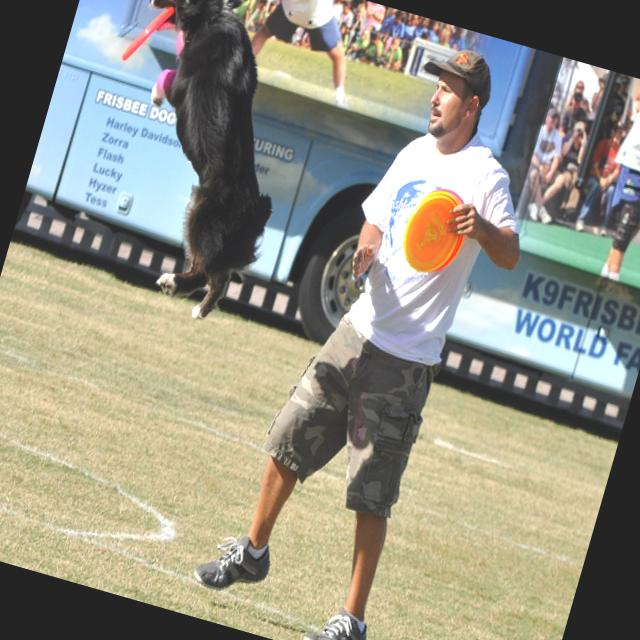Vehicle: (3, 0, 640, 440), (3, 0, 640, 439)
